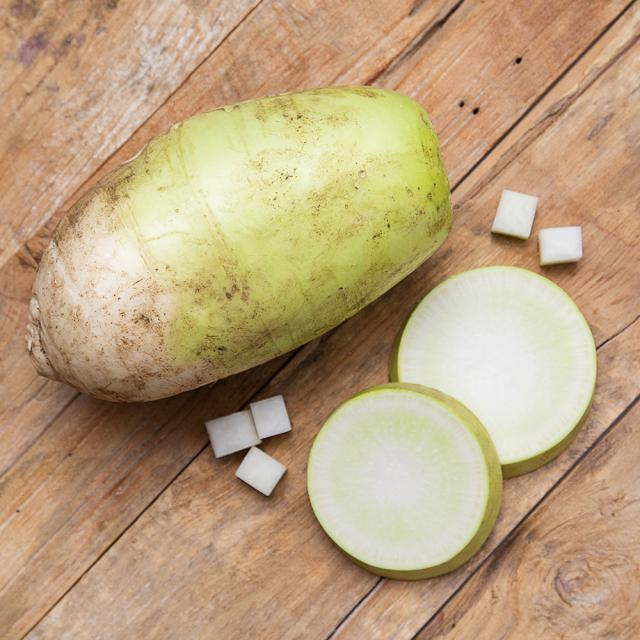radish: (25, 80, 459, 408)
